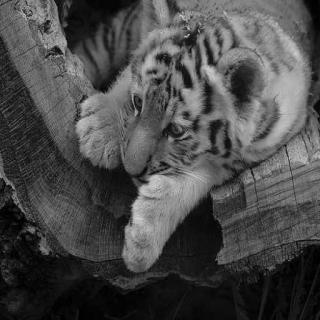Tiger: (53, 16, 319, 263)
